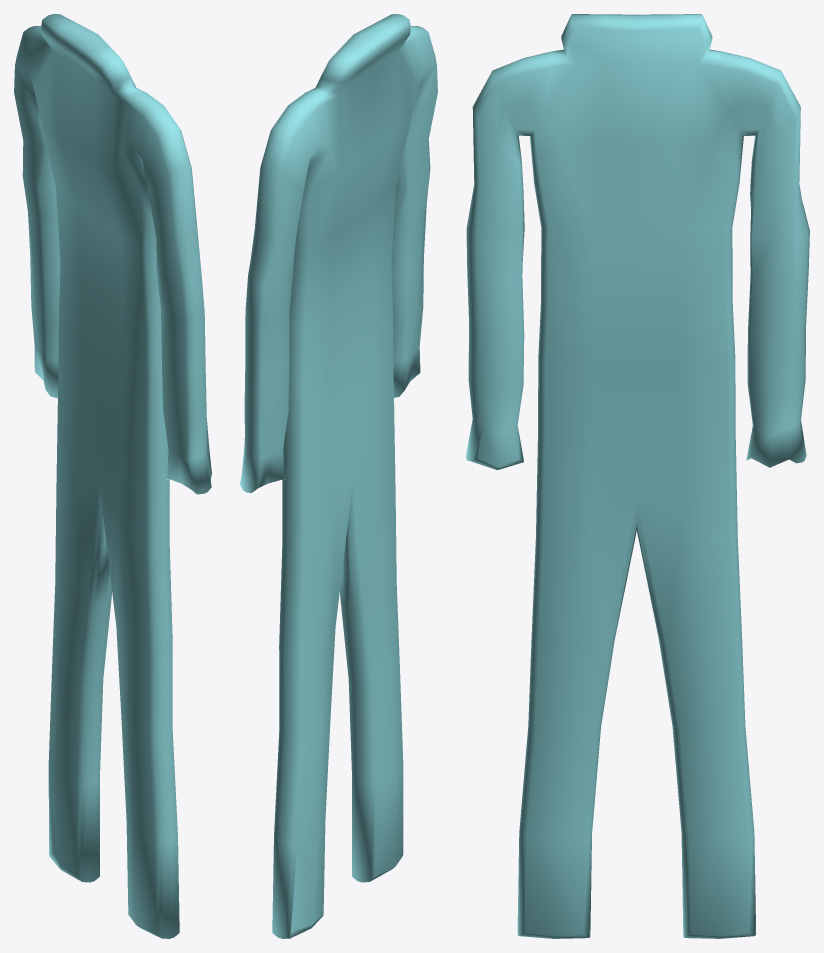
Rendered from gown.fbx.
3 views of the same model, side by side, from view 1: azimuth 30°, elevation 25°; view 2: azimuth 150°, elevation 25°; view 3: azimuth 270°, elevation 25° (orthographic). The views are drawn at different scales.
Parts seen in each view (by area): view 1: NurbsPath.001; view 2: NurbsPath.001; view 3: NurbsPath.001.
Boxes of the visible parts, box(x1,y1,x2,y2) form: NurbsPath.001: box(14, 14, 211, 938); NurbsPath.001: box(240, 14, 437, 938); NurbsPath.001: box(466, 14, 809, 938).
Size of the model in its own units: 13.49 by 149 by 51.25.
